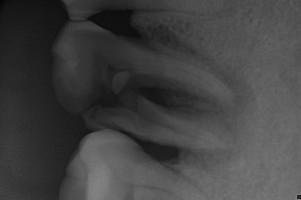Dental Caries: (135, 23, 255, 169)
